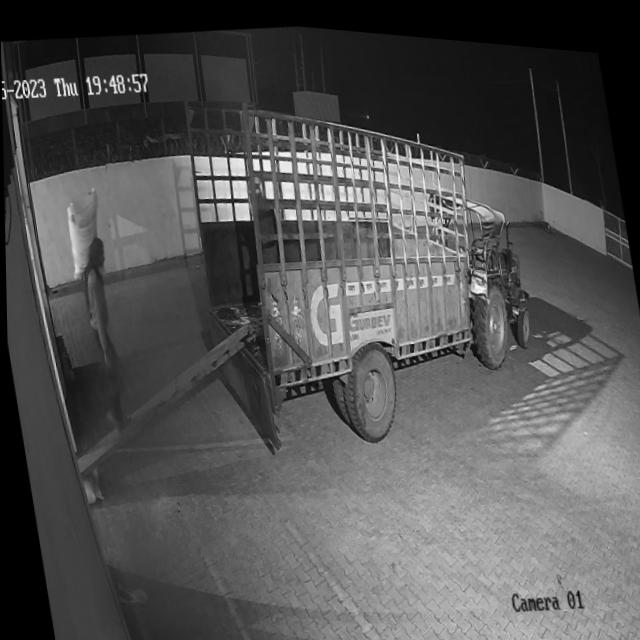sack: (59, 184, 108, 278)
